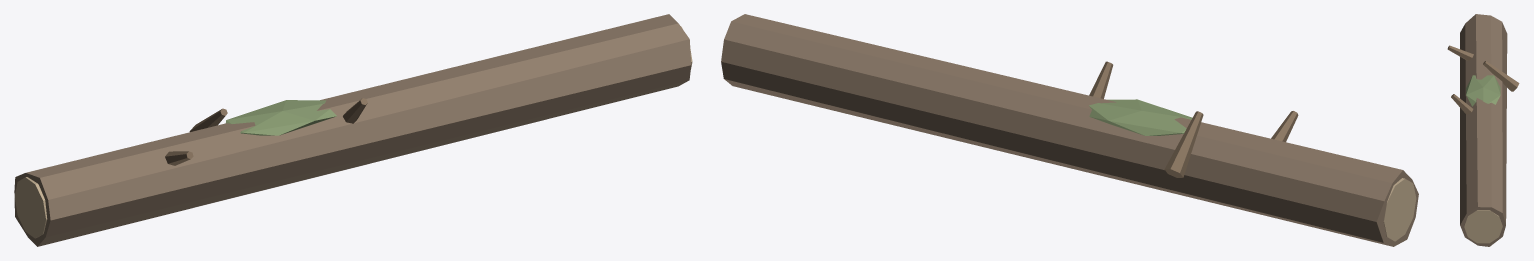
Rendered from Log1.glb.
The picture shows the model from 3 angles, left to right: view 1: azimuth 30°, elevation 25°; view 2: azimuth 150°, elevation 25°; view 3: azimuth 270°, elevation 25°; orthographic projection. The views are drawn at different scales.
Parts seen in each view (by area): view 1: Log1; view 2: Log1; view 3: Log1.
Boxes of the visible parts, left/top/right/bottom form: Log1: left=14, top=14, right=692, bottom=246; Log1: left=721, top=14, right=1418, bottom=246; Log1: left=1447, top=14, right=1519, bottom=246.
Bounding box in the file's own units: 22.16 × 2.81 × 3.49.
